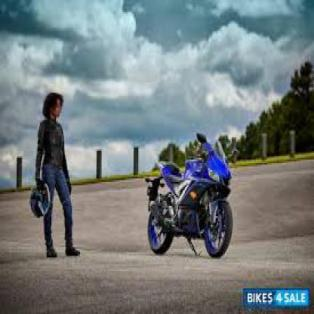Motocicleta: (141, 130, 238, 266)
